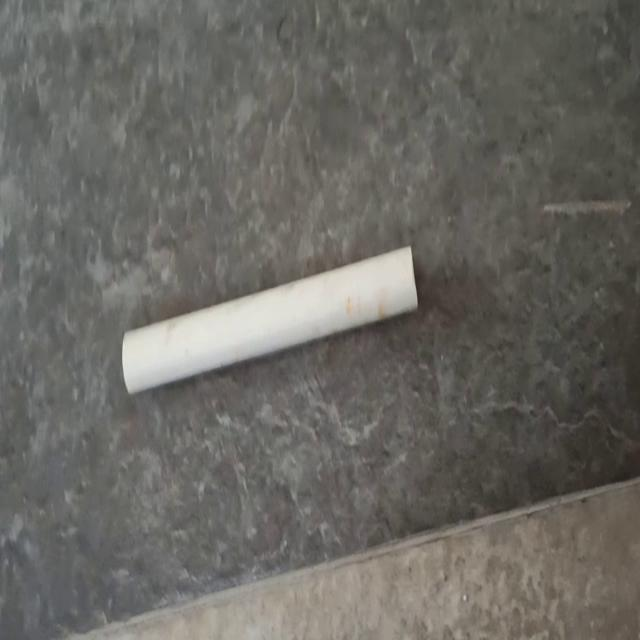Cube: (121, 242, 419, 396)
